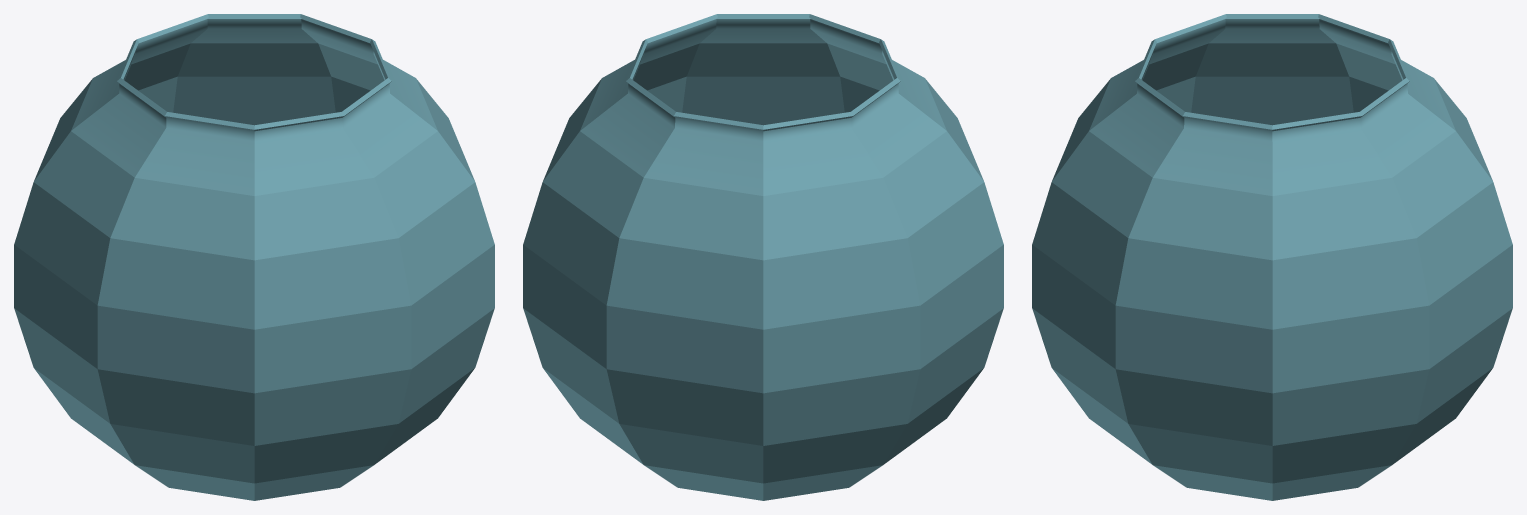
File: FishKom.fbx
The picture shows the model from 3 angles, left to right: view 1: azimuth 30°, elevation 25°; view 2: azimuth 150°, elevation 25°; view 3: azimuth 270°, elevation 25°; orthographic projection.
Parts seen in each view (by area): view 1: FishKom; view 2: FishKom; view 3: FishKom.
Part boxes in pixels (x1,y1,x2,y2): FishKom: (14, 14, 494, 500); FishKom: (523, 14, 1003, 500); FishKom: (1032, 14, 1512, 500).
Bounding box in the file's own units: 19.2 × 16.86 × 19.5.
